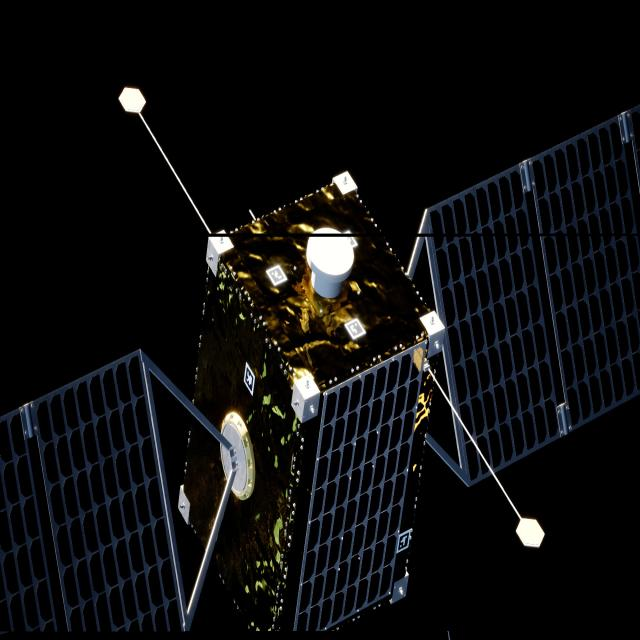medium_debris: (0, 106, 640, 636)
